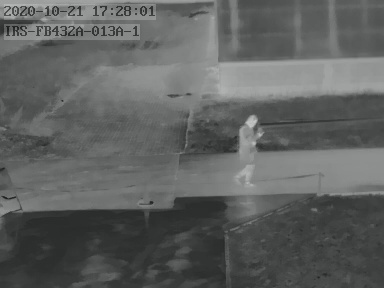person: (233, 114, 264, 187)
